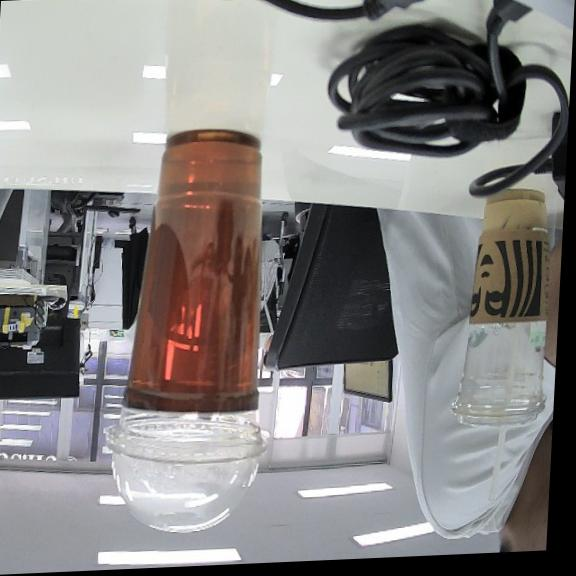Plastik: (105, 129, 263, 529)
